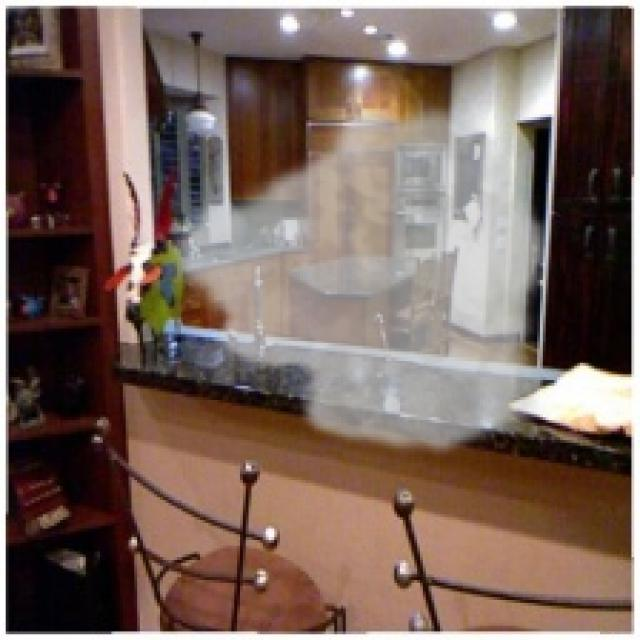smoke: (163, 94, 554, 460)
